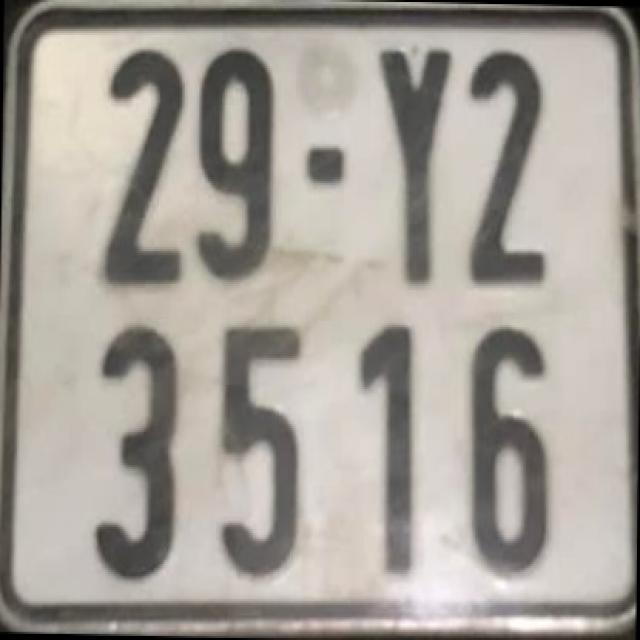1: (352, 315, 427, 576)
2: (100, 43, 187, 288), (464, 43, 551, 286)
3: (91, 319, 184, 582)
5: (214, 313, 308, 578)
6: (463, 319, 555, 576)
9: (193, 41, 279, 284)
Y: (375, 31, 455, 288)
